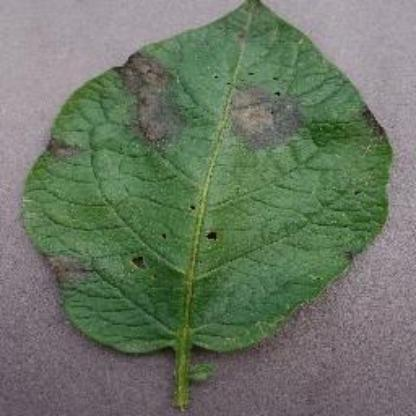Late-Blight: (19, 5, 405, 406)
